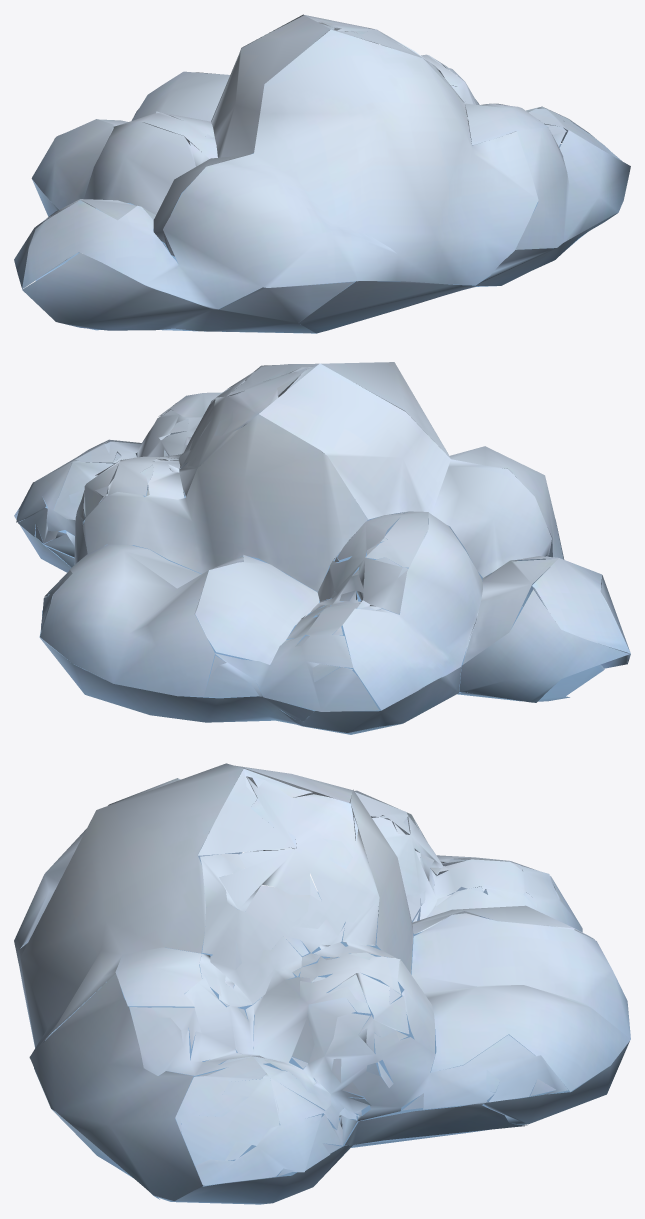
File: cloud_gen_b.glb
The picture shows the model from 3 angles, top to bottom: view 1: azimuth 30°, elevation 25°; view 2: azimuth 150°, elevation 25°; view 3: azimuth 270°, elevation 25°; orthographic projection. The views are drawn at different scales.
Parts seen in each view (by area): view 1: cloud_gen.001; view 2: cloud_gen.001; view 3: cloud_gen.001.
Boxes of the visible parts, x1=… form: cloud_gen.001: x1=14, y1=14, x2=630, y2=333; cloud_gen.001: x1=14, y1=362, x2=630, y2=734; cloud_gen.001: x1=14, y1=763, x2=630, y2=1204.
Size of the model in its own units: 1 by 0.393 by 0.7304.
Materials: 1 (1 with a texture image).
